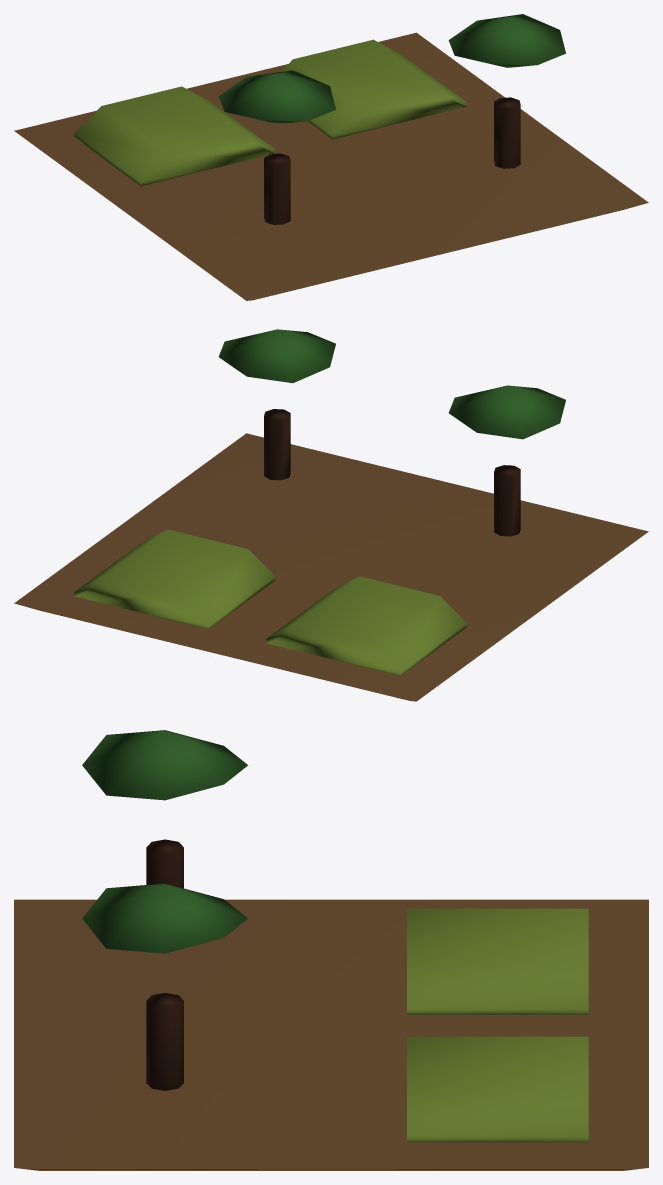
File: R28_HAN_AGRICULTURE_GARDEN_PRODUCTION_A.fbx
3 renders of one model, top to bottom at view 1: azimuth 30°, elevation 25°; view 2: azimuth 150°, elevation 25°; view 3: azimuth 270°, elevation 25°, orthographic. The views are drawn at different scales.
Parts seen in each view (by area): view 1: ground, herb_bed_e, herb_bed_w, tree_nw_crown, tree_ne_crown, tree_nw_trunk, tree_ne_trunk; view 2: ground, herb_bed_e, herb_bed_w, tree_ne_crown, tree_nw_crown, tree_nw_trunk, tree_ne_trunk; view 3: ground, herb_bed_w, herb_bed_e, tree_nw_crown, tree_ne_crown, tree_nw_trunk, tree_ne_trunk.
Part boxes in pixels (x1,y1,x2,y2): ground: (14,32,648,300); herb_bed_e: (74,86,274,185); herb_bed_w: (281,39,466,139); tree_nw_crown: (448,14,565,67); tree_ne_crown: (218,70,335,123); tree_nw_trunk: (494,97,520,168); tree_ne_trunk: (264,153,290,224); ground: (14,433,648,701); herb_bed_e: (266,576,466,675); herb_bed_w: (74,529,274,629); tree_ne_crown: (449,385,565,439); tree_nw_crown: (218,329,335,383); tree_nw_trunk: (264,409,290,480); tree_ne_trunk: (494,465,520,536); ground: (14,899,648,1170); herb_bed_w: (407,1036,588,1142); herb_bed_e: (407,908,588,1014); tree_nw_crown: (82,883,247,953); tree_ne_crown: (82,730,247,800); tree_nw_trunk: (146,993,183,1090); tree_ne_trunk: (146,839,183,888).
Size of the model in its own units: 84 by 35 by 84.
